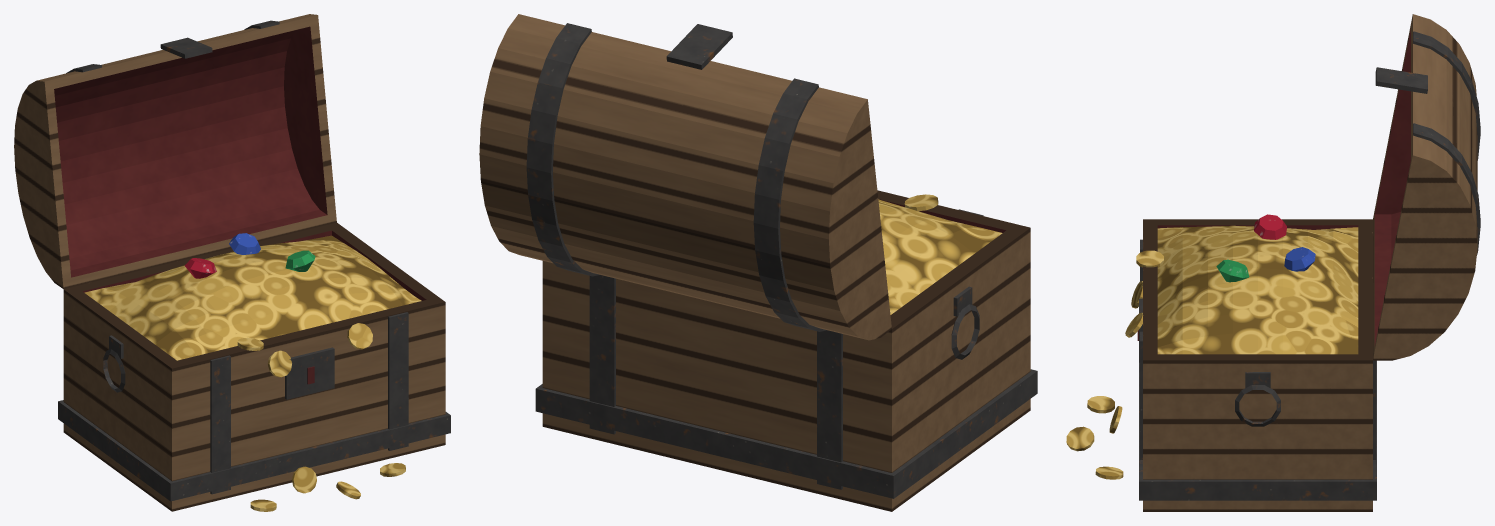
File: 보물상자_열림.fbx
3 renders of one model, left to right at view 1: azimuth 30°, elevation 25°; view 2: azimuth 150°, elevation 25°; view 3: azimuth 270°, elevation 25°, orthographic. The views are drawn at different scales.
Parts seen in each view (by area): view 1: 보물상자_열림; view 2: 보물상자_열림; view 3: 보물상자_열림.
Boxes of the visible parts, x1=… form: 보물상자_열림: x1=14, y1=14, x2=450, y2=511; 보물상자_열림: x1=479, y1=14, x2=1037, y2=511; 보물상자_열림: x1=1066, y1=14, x2=1480, y2=511.
Size of the model in its own units: 832 by 969 by 991.
Materials: 5 (5 with a texture image).
